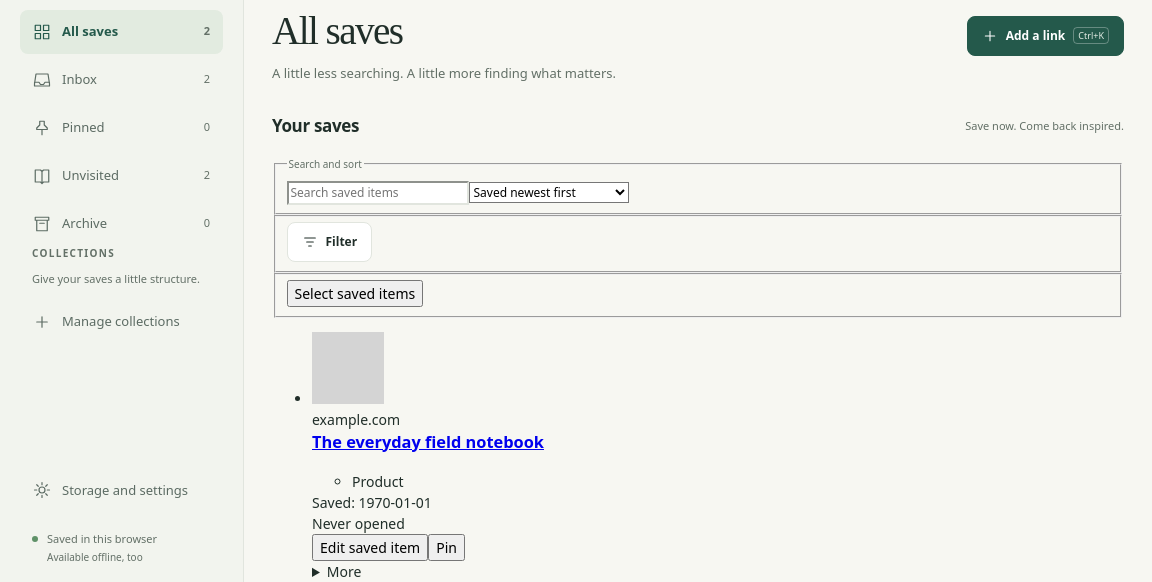
Test case: opening an unread link updates its activity and count without changing its edit timestamp
Check: the 3rd text "2" is shown, box [204, 167, 210, 184]
Step 1. Click the button "Unvisited 2" → [122, 176], box [20, 154, 223, 198]
(page scrolled)
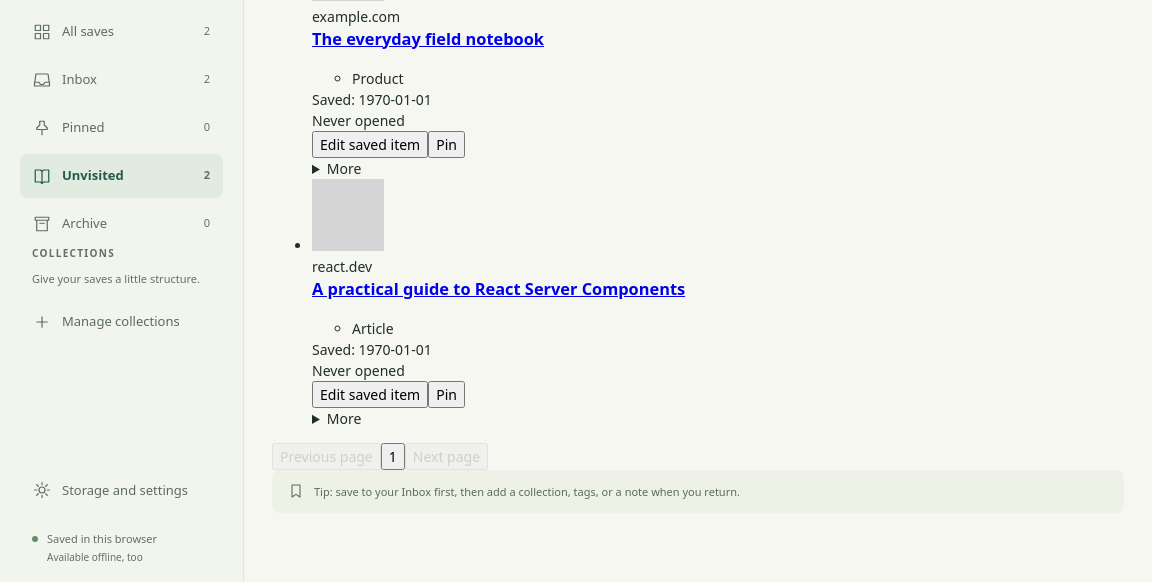
Step 2. Click the link "A practical guide to React Server Components" → [499, 289], box [312, 278, 685, 300]
(page scrolled)
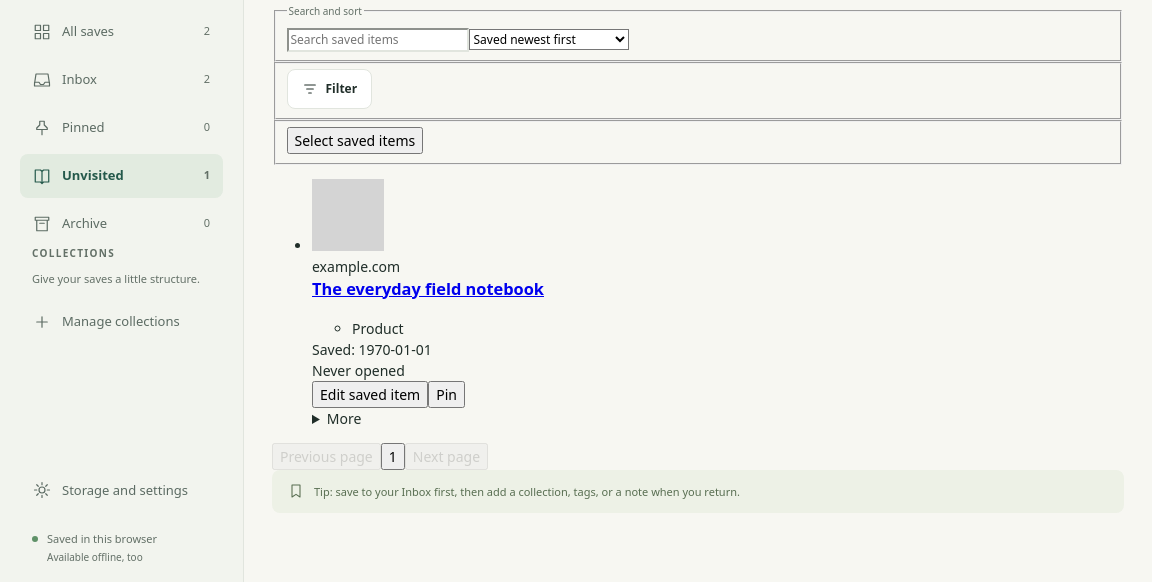
Check: the list item "The everyday field notebook" is shown, box [312, 179, 544, 428]
Check: the text "1" is shown, box [204, 167, 210, 184]
Check: the link "A practical guide to React Server Components" is gone
